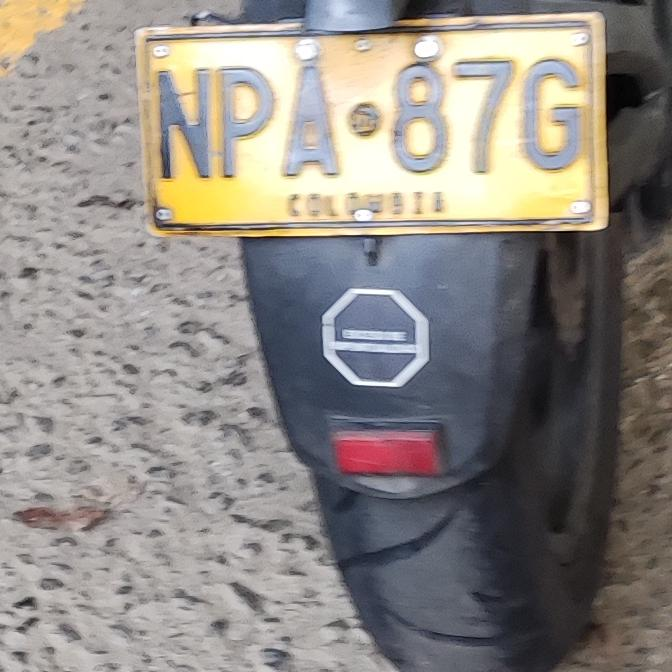plates: (138, 12, 607, 242)
